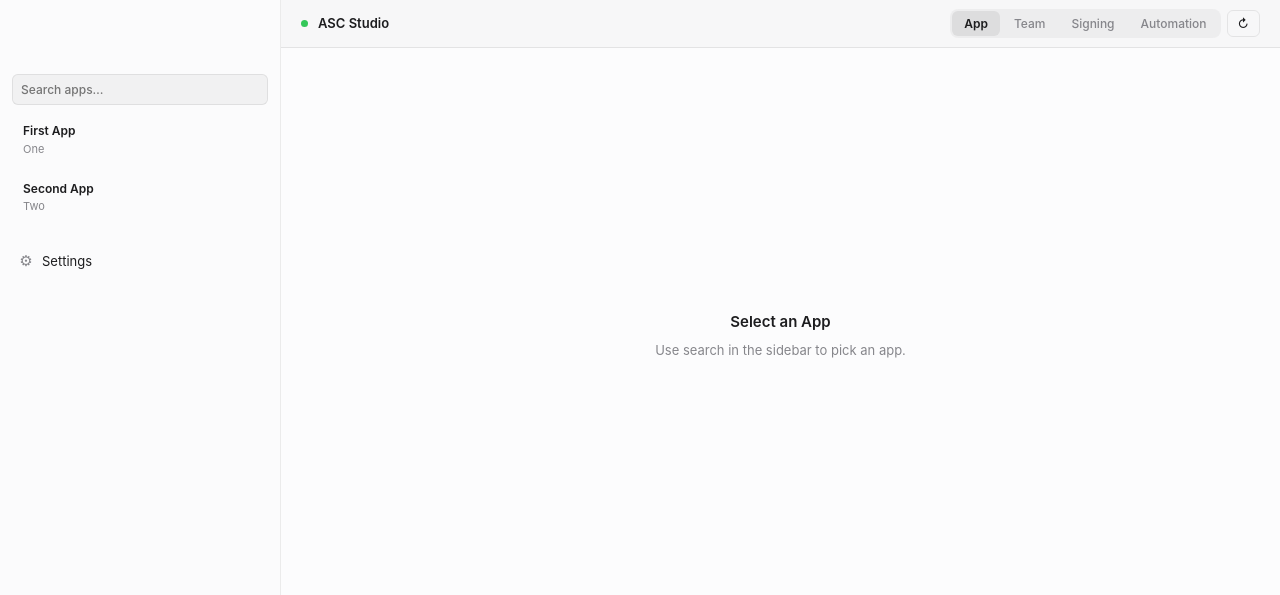
Scenario: App › switches back to overview before loading a different app
Expected: the picture named "Connected" is shown, x1=301 y1=20 x2=308 y2=27
Type "First App" into the search field labelled "Search apps". click: x=140, y=90
box: x1=12 y1=74 x2=268 y2=105
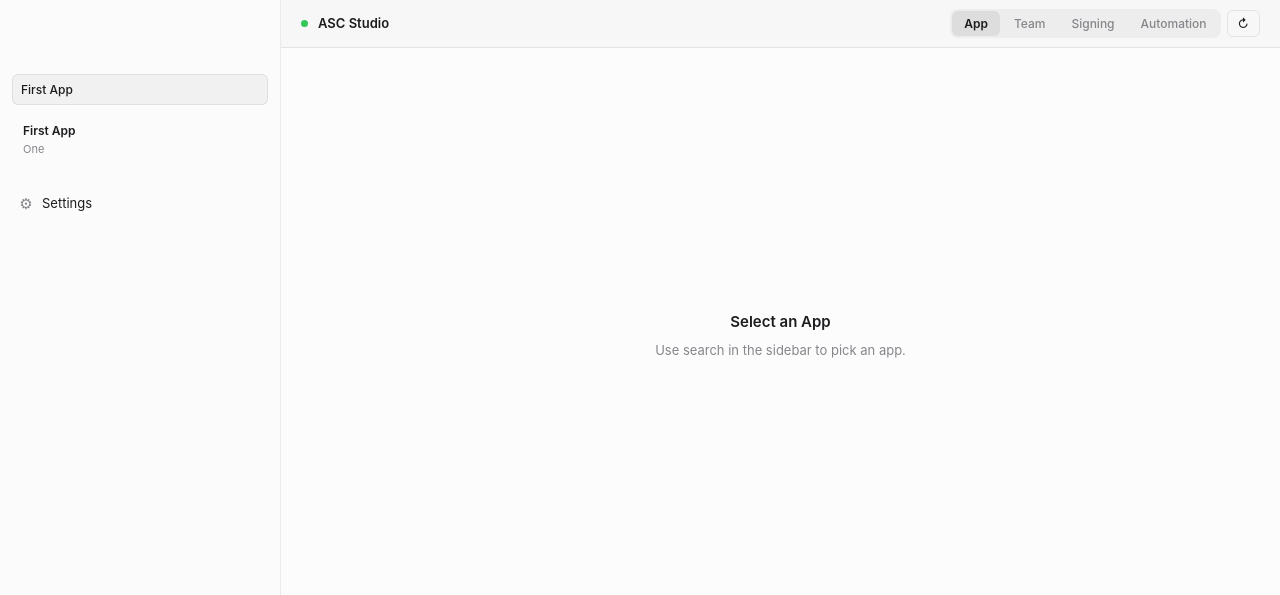
Click the option "First App One". click: x=140, y=140
box: x1=12 y1=113 x2=268 y2=167
(page scrolled)
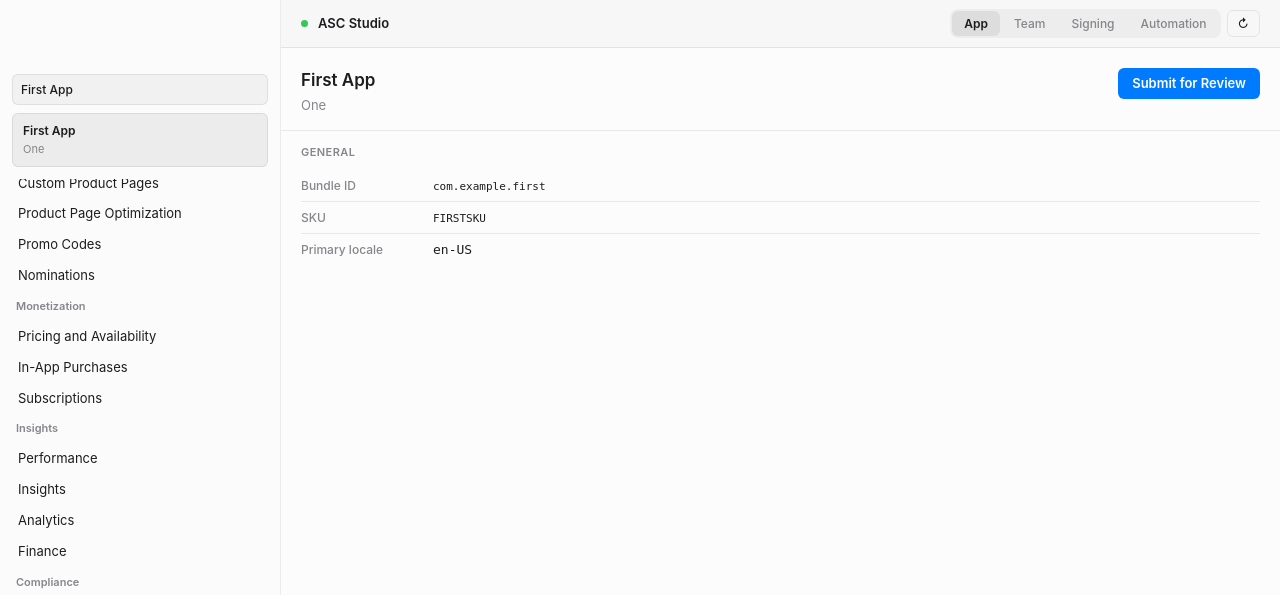
Click the button "Insights". click: x=42, y=489
box: x1=8 y1=474 x2=272 y2=505
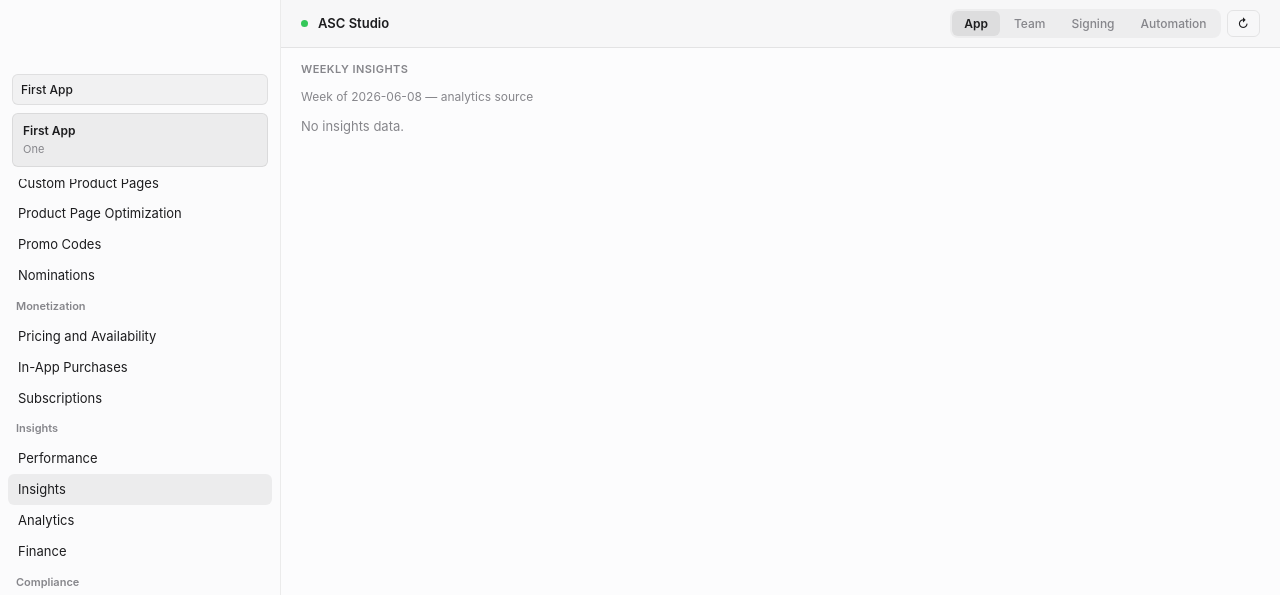
Replace the text in the search field named "Search apps" with "Second App". click: x=140, y=90
box: x1=12 y1=74 x2=268 y2=105
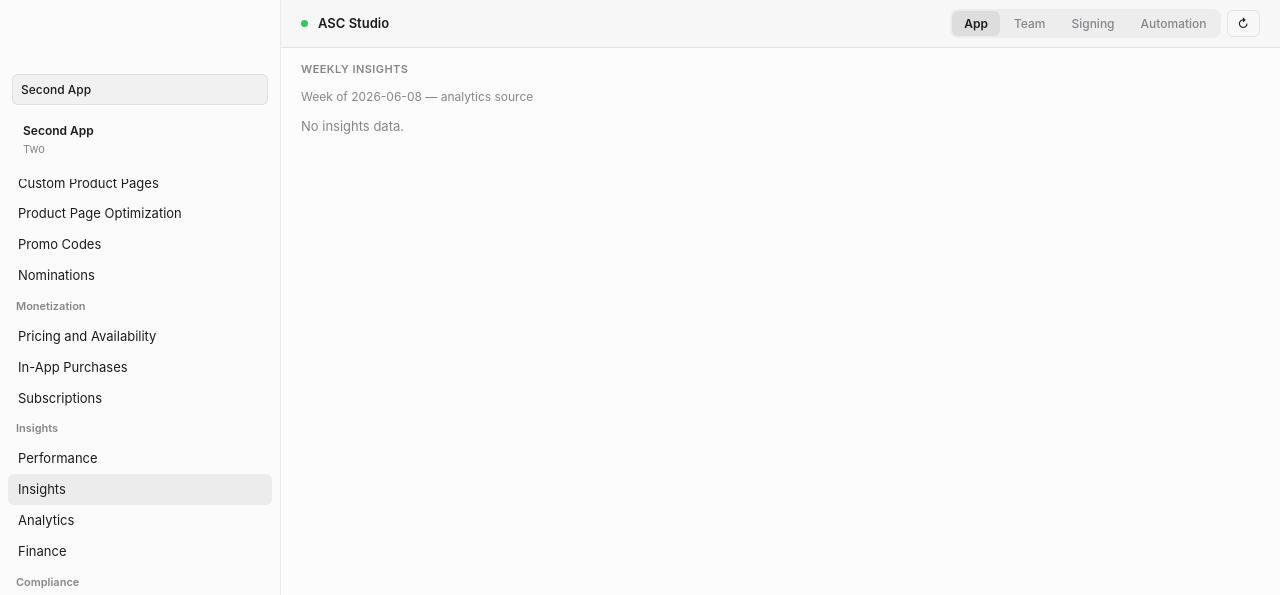
Click the option "Second App Two". click: x=140, y=140
box: x1=12 y1=113 x2=268 y2=167
(page scrolled)
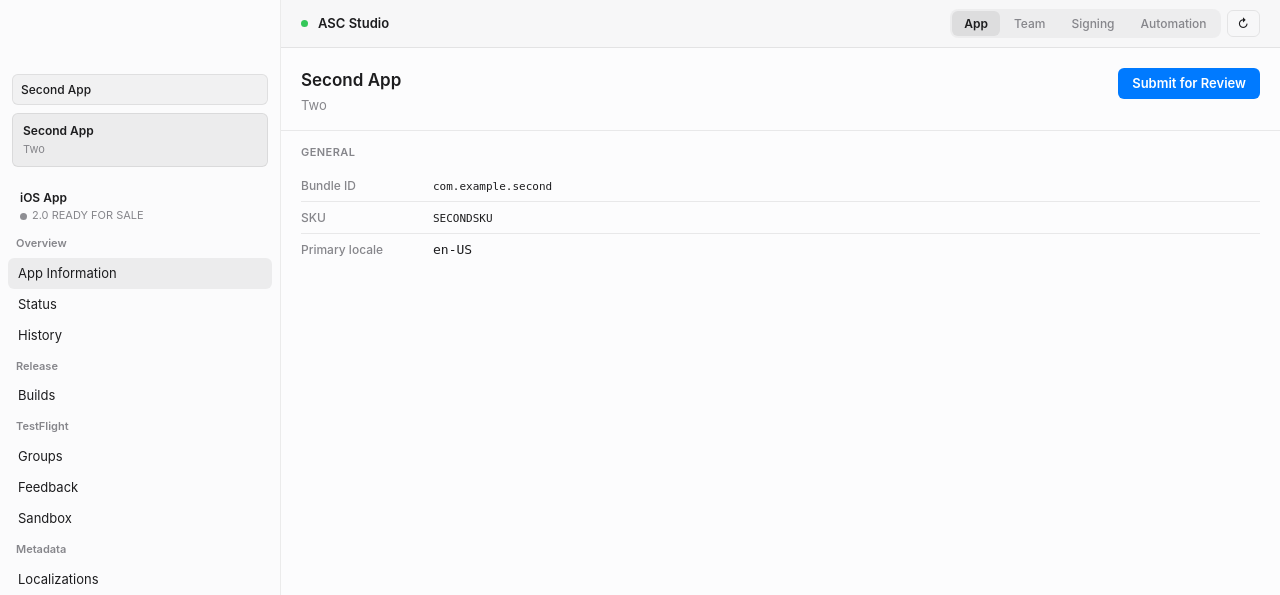
Expected: the text "com.example.second" is shown, x1=433 y1=179 x2=552 y2=195
